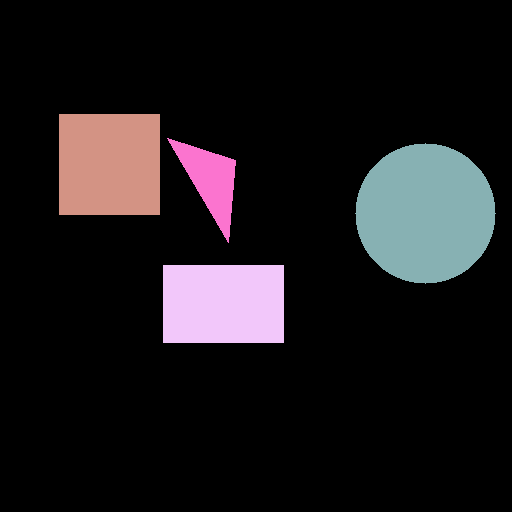circle: (355, 143, 495, 283)
rectangle: (163, 265, 283, 342)
square: (59, 114, 159, 214)
triangle: (167, 138, 235, 242)
